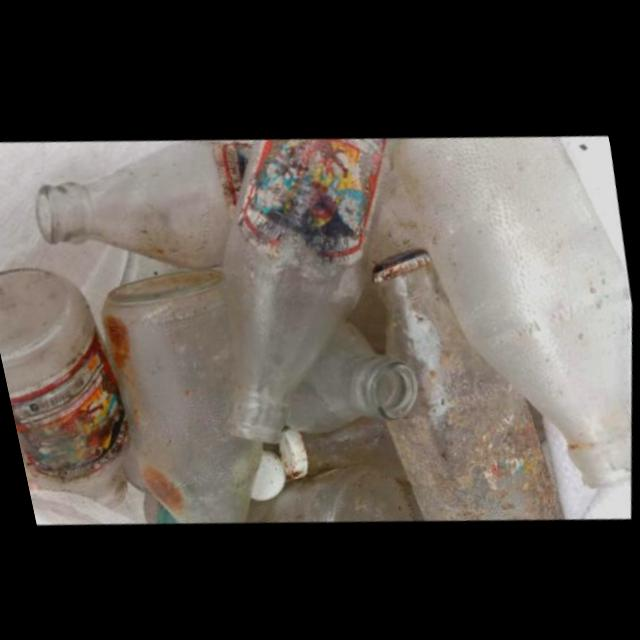chai_thuy_tinh: (393, 128, 637, 478), (374, 241, 571, 514), (226, 132, 397, 439), (105, 265, 269, 520), (0, 266, 136, 507), (37, 138, 249, 266), (291, 315, 423, 428), (251, 459, 424, 519)
